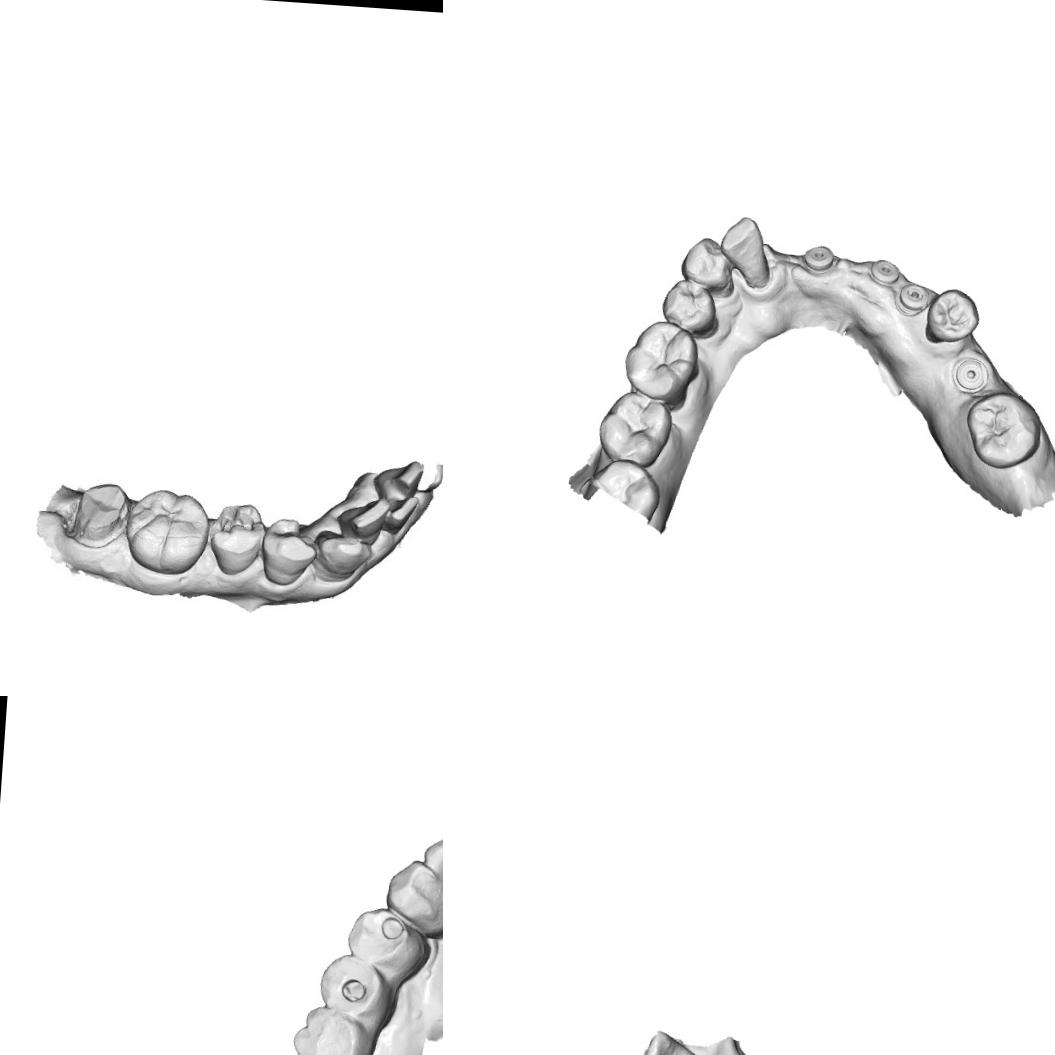canine: (381, 857, 443, 938), (717, 212, 774, 290), (314, 525, 370, 584)
crown: (68, 474, 127, 550)
implant: (949, 354, 990, 395), (801, 243, 836, 276), (865, 257, 901, 287)
implant_minus: (891, 279, 931, 317)
incisor: (639, 1026, 711, 1055), (376, 458, 422, 502), (418, 826, 443, 900), (342, 497, 387, 537), (385, 488, 422, 531)
molar: (618, 318, 702, 410), (125, 489, 213, 575), (961, 388, 1044, 472), (595, 388, 674, 466), (286, 1003, 369, 1055)
premolar: (343, 903, 426, 977), (314, 953, 394, 1019), (206, 502, 269, 576), (657, 277, 722, 340), (676, 233, 738, 298), (256, 519, 315, 586), (922, 284, 982, 346)
